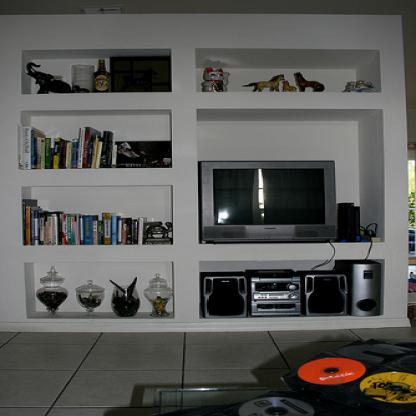bottle: (91, 58, 112, 92)
tvmonitor: (198, 160, 338, 244)
